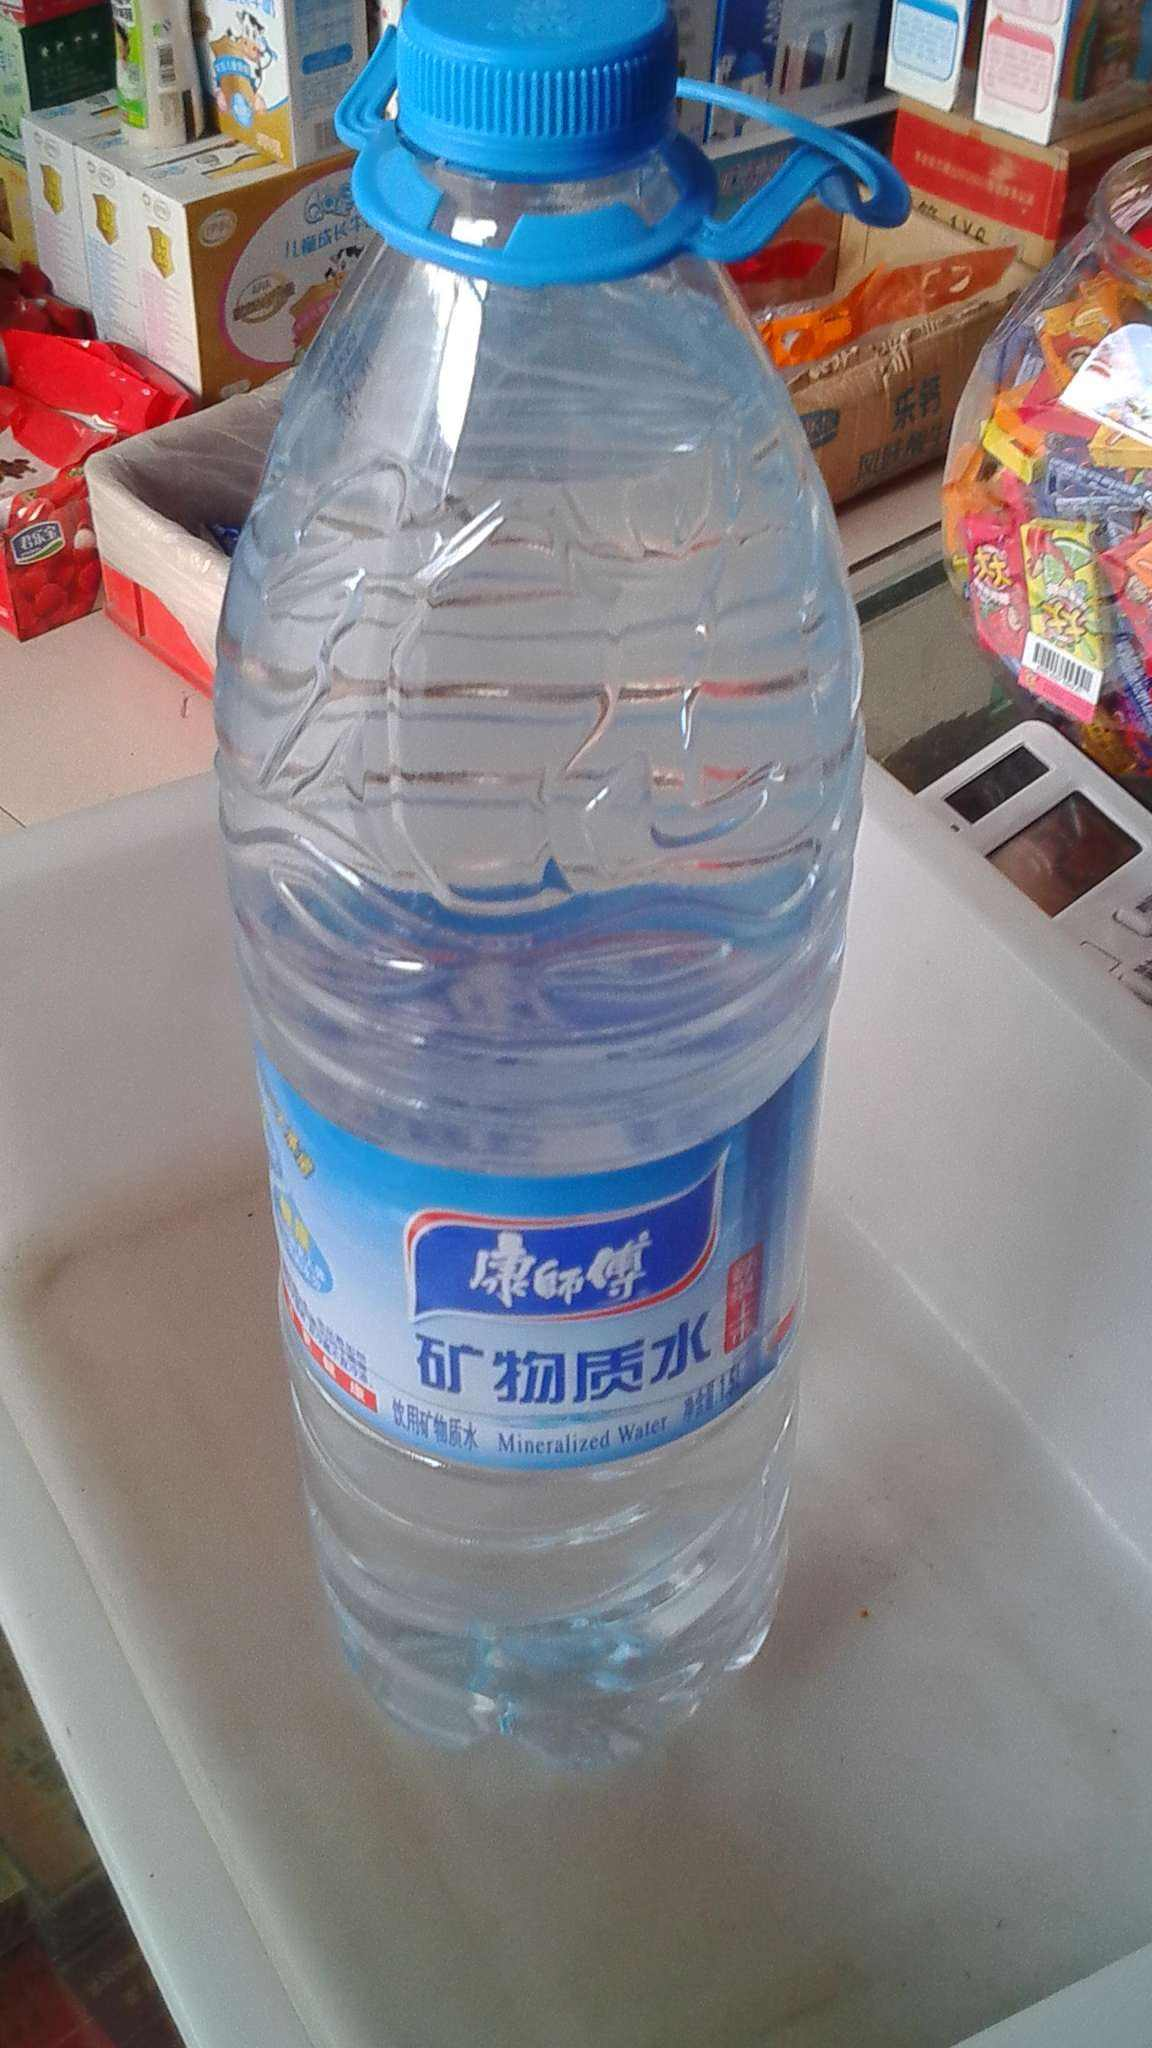amwater: (160, 1, 904, 1838)
